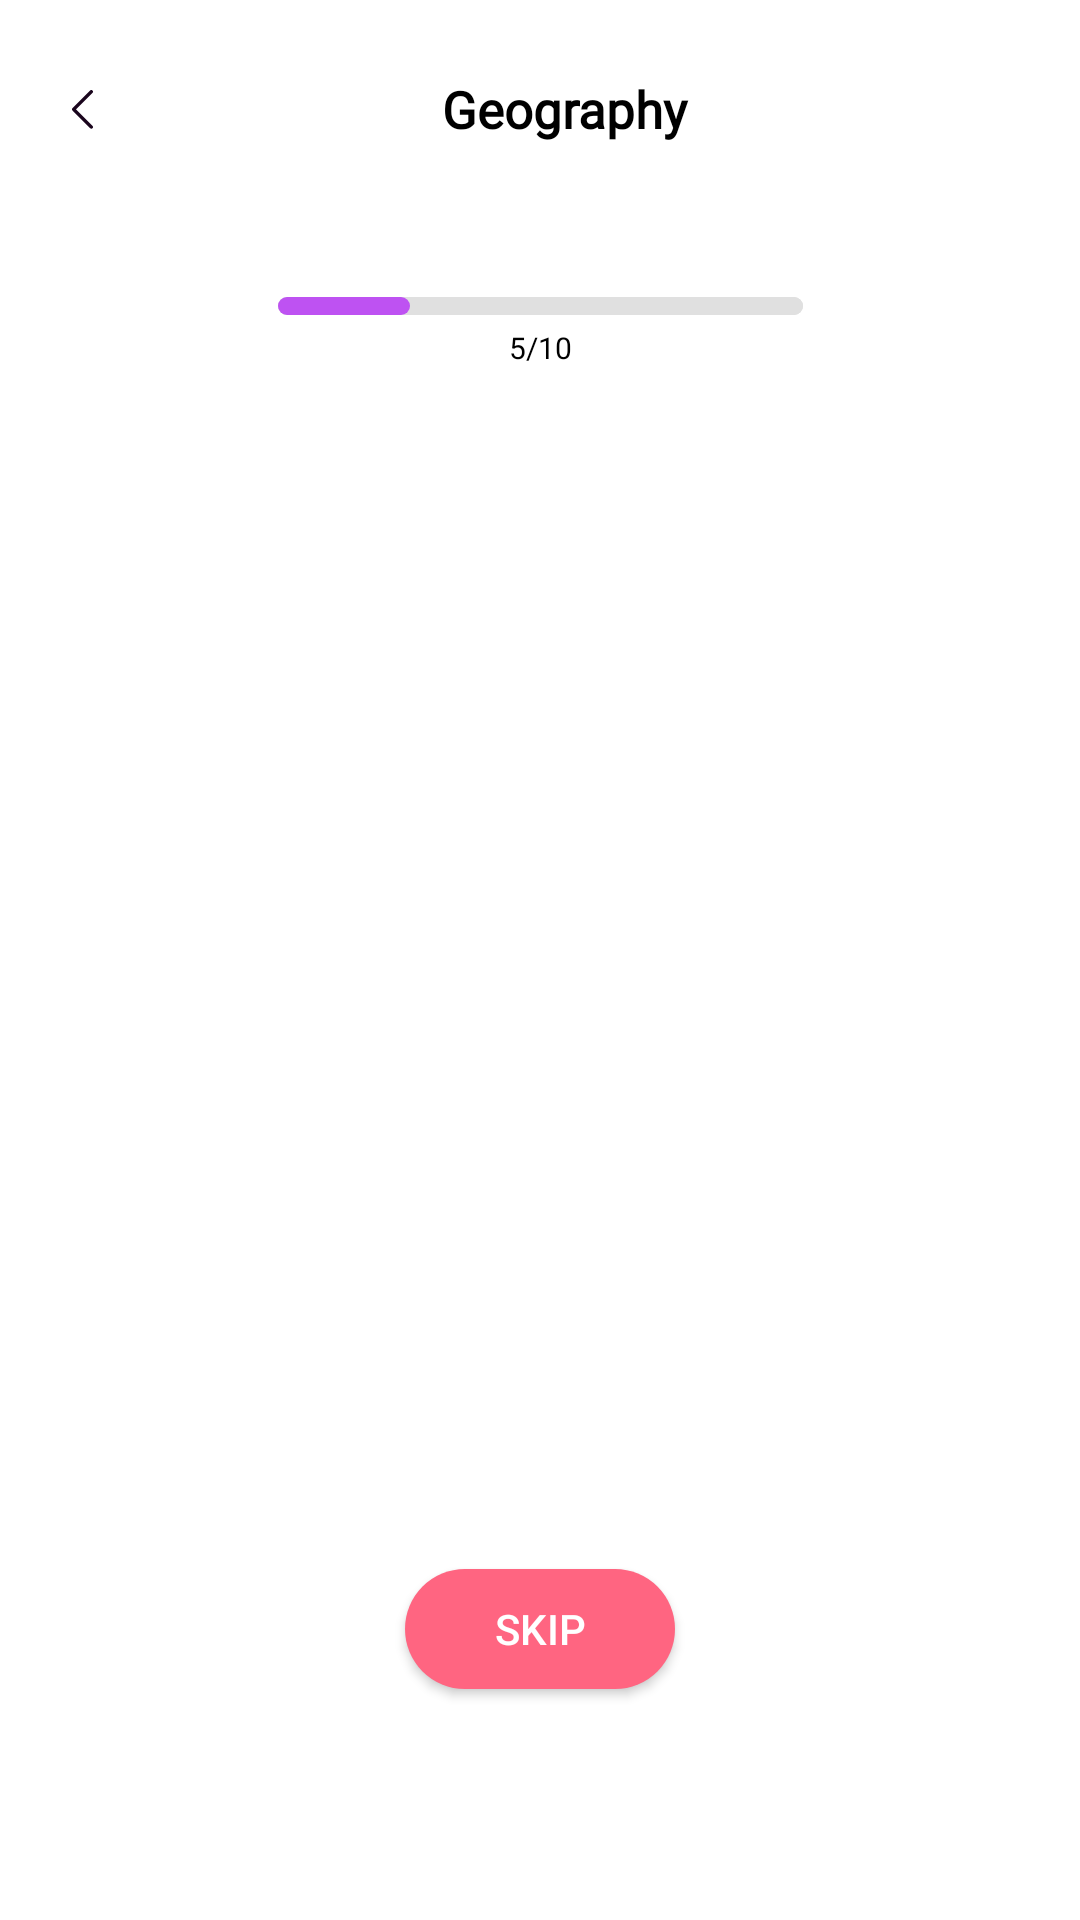

Where to tap for icons on this 1080 x 1920 app screen, as point (x, y):
back: point (82, 109)
